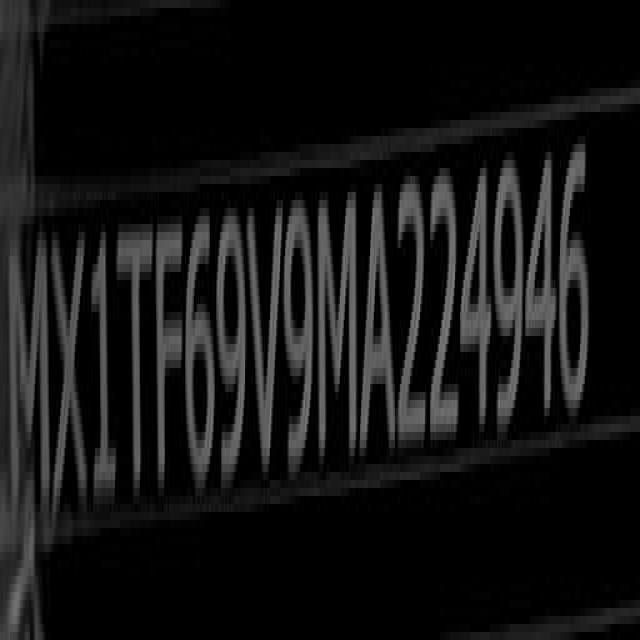1: (90, 219, 116, 507)
2: (431, 153, 463, 461), (397, 163, 429, 466)
4: (459, 148, 491, 454), (527, 136, 558, 438)
6: (561, 127, 595, 431), (186, 202, 216, 510)
9: (494, 143, 528, 444), (216, 198, 247, 500), (284, 184, 314, 484)
A: (362, 172, 397, 470)
F: (154, 204, 183, 515)
M: (318, 168, 358, 478), (8, 231, 52, 507)
T: (119, 216, 153, 519)
V: (248, 191, 284, 496)
X: (52, 218, 90, 529)
